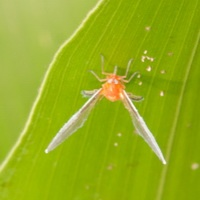insect: (45, 55, 165, 163)
